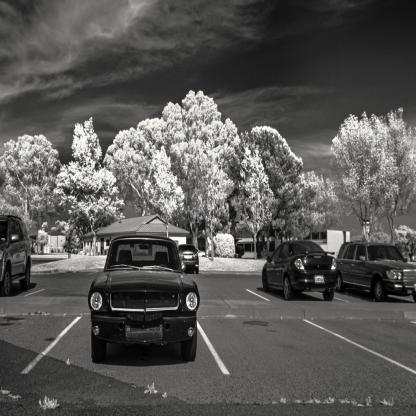Car: (87, 233, 200, 363), (336, 239, 415, 303), (261, 239, 336, 301), (0, 213, 31, 298), (177, 244, 199, 274), (196, 246, 206, 256), (412, 253, 416, 261)
